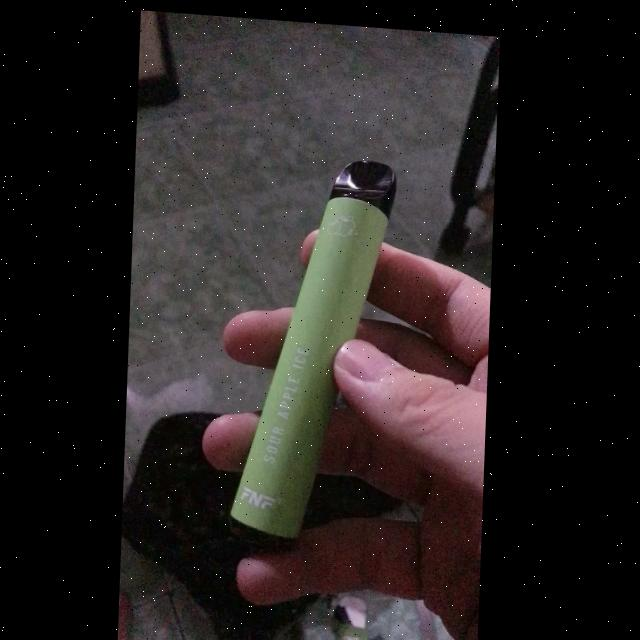vape: (229, 142, 398, 556)
